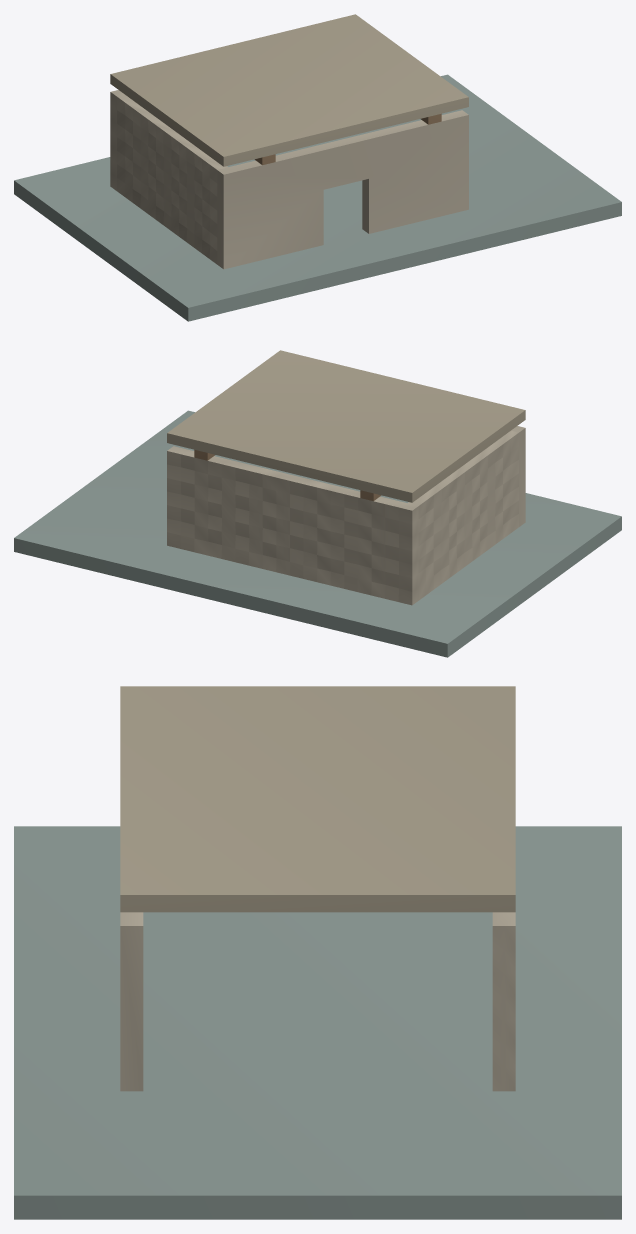
Rendered from church-house.glb.
3 views of the same model, one above another, from view 1: azimuth 30°, elevation 25°; view 2: azimuth 150°, elevation 25°; view 3: azimuth 270°, elevation 25° (orthographic). The views are drawn at different scales.
Parts seen in each view (by area): view 1: church-house-church-modern-continuous-neutral-support, church-house-church-modern-thick-roof-section, church-house-church-original-selected-plain-wall.002, church-house-church-original-selected-plain-wall.001, church-house-church-original-selected-plain-wall; view 2: church-house-church-modern-continuous-neutral-support, church-house-church-modern-thick-roof-section, church-house-church-original-selected-plain-wall, church-house-church-original-selected-plain-wall.001, church-house-church-original-selected-plain-wall.002; view 3: church-house-church-modern-continuous-neutral-support, church-house-church-modern-thick-roof-section, church-house-church-original-selected-plain-wall, church-house-church-original-selected-plain-wall.002.
Boxes of the visible parts, x1,y1,x2,y2 form: church-house-church-modern-continuous-neutral-support: (14, 74, 621, 321); church-house-church-modern-thick-roof-section: (110, 14, 468, 166); church-house-church-original-selected-plain-wall.002: (217, 110, 468, 269); church-house-church-original-selected-plain-wall.001: (117, 94, 227, 264); church-house-church-original-selected-plain-wall: (110, 90, 124, 190); church-house-church-modern-continuous-neutral-support: (14, 410, 621, 657); church-house-church-modern-thick-roof-section: (167, 350, 525, 502); church-house-church-original-selected-plain-wall: (167, 446, 418, 605); church-house-church-original-selected-plain-wall.001: (408, 430, 518, 600); church-house-church-original-selected-plain-wall.002: (511, 426, 525, 526); church-house-church-modern-continuous-neutral-support: (14, 826, 621, 1219); church-house-church-modern-thick-roof-section: (120, 686, 515, 912); church-house-church-original-selected-plain-wall: (492, 912, 515, 1091); church-house-church-original-selected-plain-wall.002: (120, 912, 143, 1091).
Bounding box in the file's own units: 1.15 × 0.32 × 0.8.
